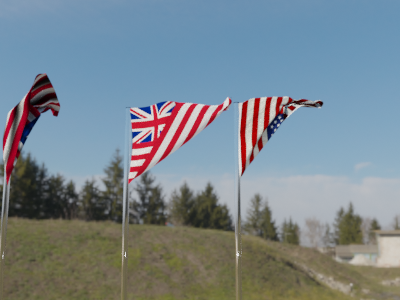America flag: (237, 98, 326, 174)
Liberia flag: (7, 70, 63, 183)
Malaysia flag: (124, 104, 223, 181)
